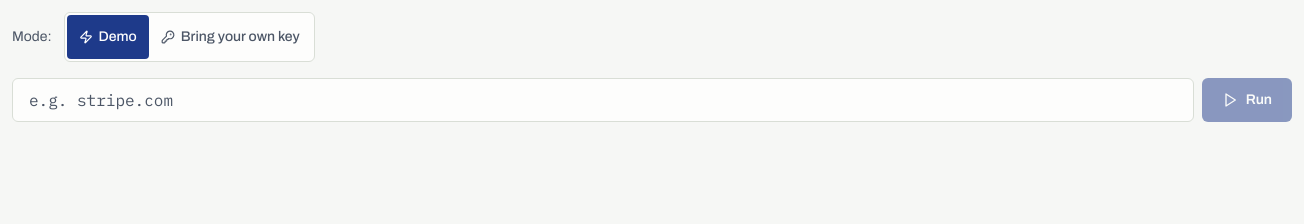
Test: DomainForm › shows a password field and disclosure text in BYO mode
Note: Switch to BYO mode
Click the button "Bring your own key" at (230, 37), box [149,15,312,59]
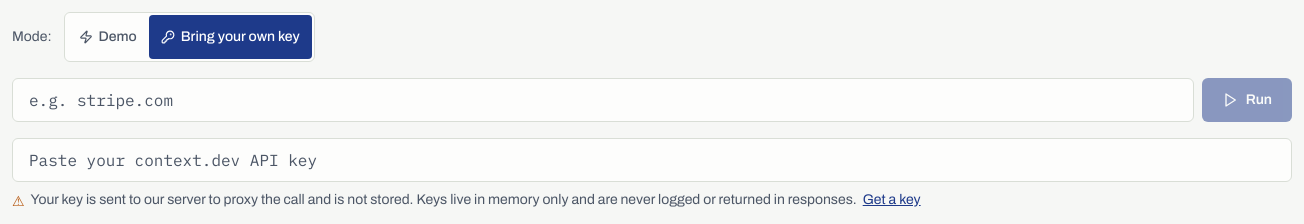
Check: the text "Your key is sent to our server" is shown, box [31,192,857,207]
